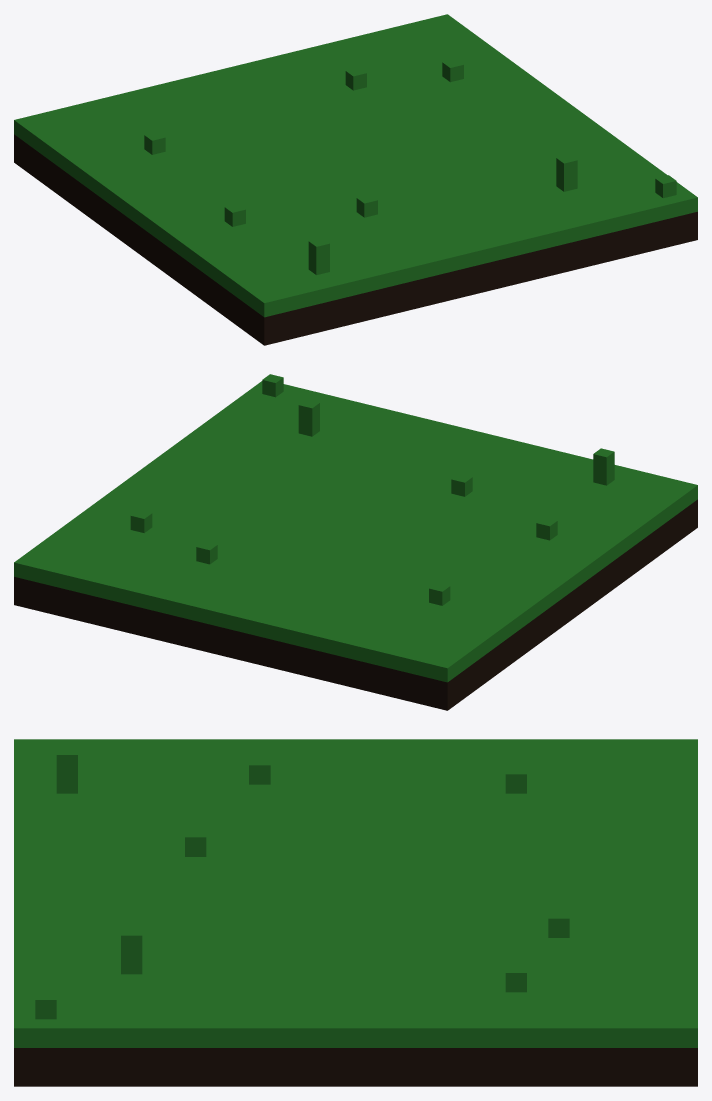
Rendered from grass.fbx.
3 views of the same model, one above another, from view 1: azimuth 30°, elevation 25°; view 2: azimuth 150°, elevation 25°; view 3: azimuth 270°, elevation 25° (orthographic). The views are drawn at different scales.
Visible parts, largest first — view 1: voxel_4_grass:Mesh; view 2: voxel_4_grass:Mesh; view 3: voxel_4_grass:Mesh.
Part boxes in pixels (left/top/right/bottom): voxel_4_grass:Mesh: left=14, top=14, right=697, bottom=345; voxel_4_grass:Mesh: left=14, top=374, right=697, bottom=710; voxel_4_grass:Mesh: left=14, top=739, right=697, bottom=1086.
Size of the model in its own units: 3.2 by 0.5 by 3.2.
